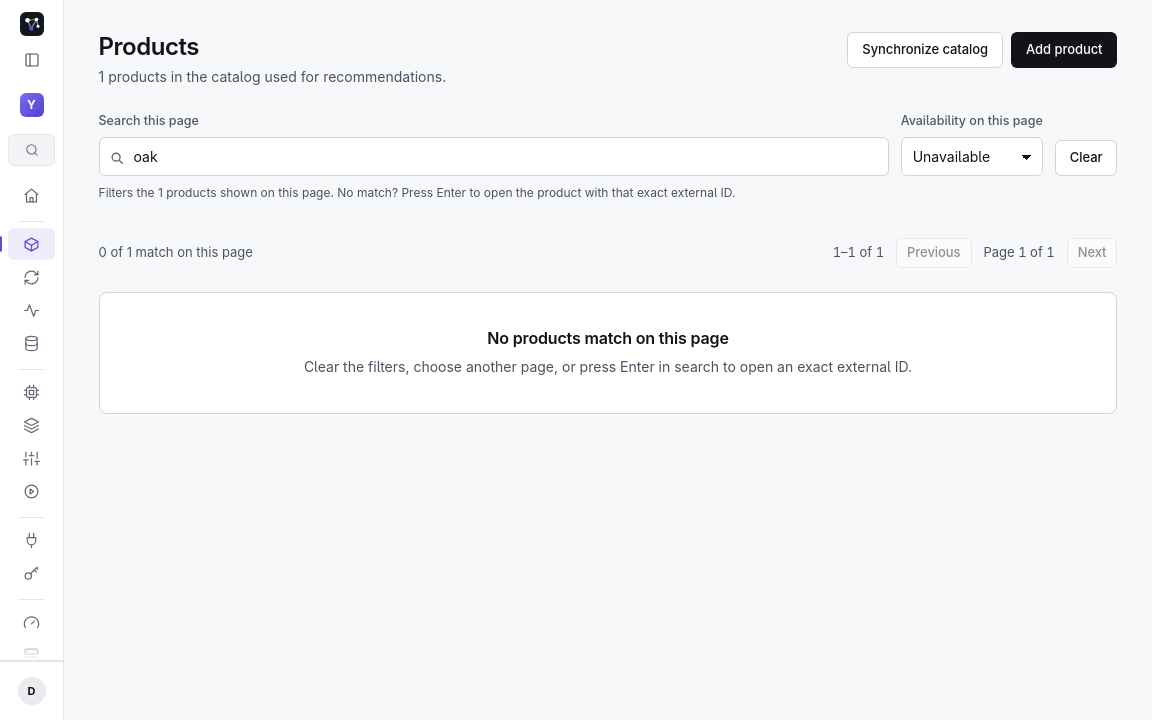
Test: operational state › clears catalog filters together without restoring either URL value
The image size is (1152, 720).
Expected: the heading "No products match on this page" is shown, [487,329,729,348]
Click the button "Clear": (1086, 158) [1055,140,1118,176]
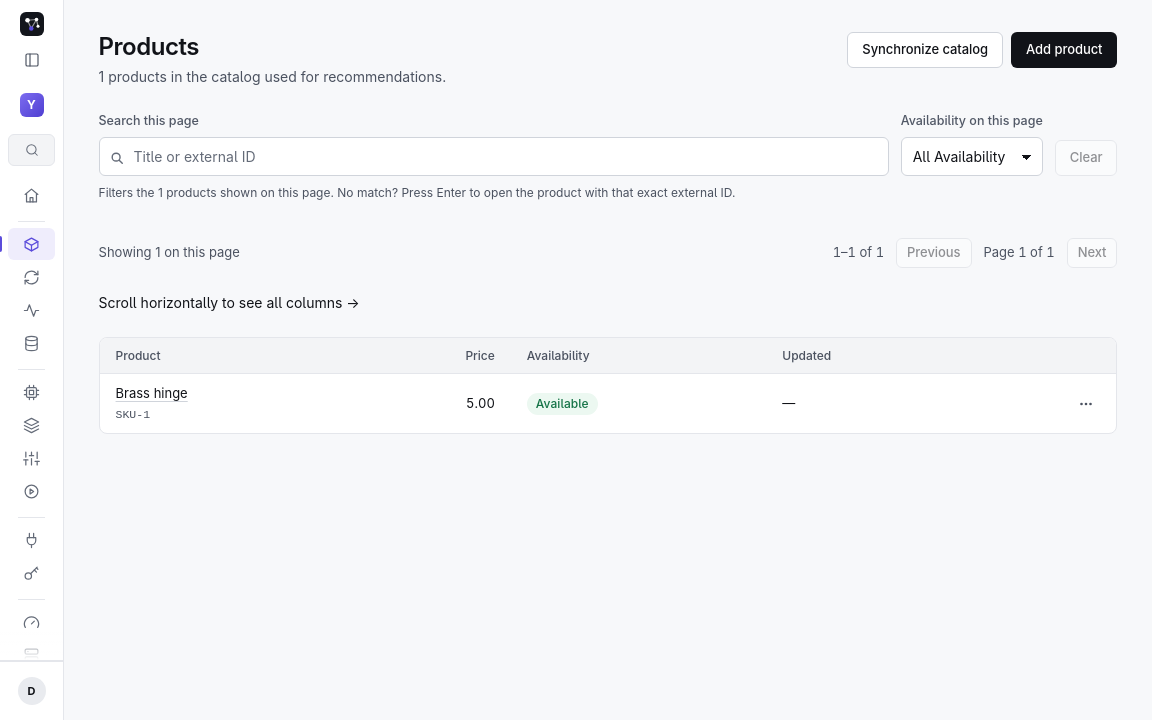
Result: the link "Brass hinge" is shown at [116,385,188,401]
Result: the field labelled "Search this page" is empty at [98,137,889,176]
Result: the dropdown labelled "Availability on this page" shows "All availability" at [901,137,1043,176]
